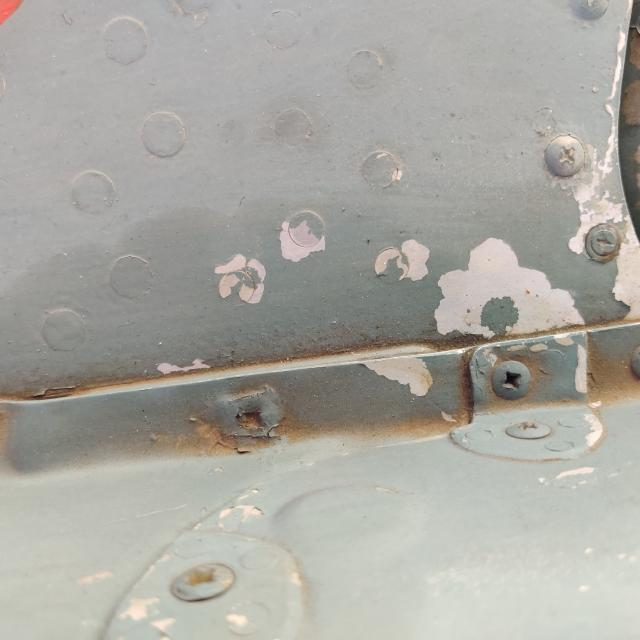paint-off: (216, 43, 410, 211), (192, 303, 316, 439), (143, 0, 335, 87), (211, 198, 301, 288), (335, 196, 407, 301)
